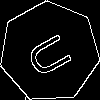U: (24, 27, 82, 81)
